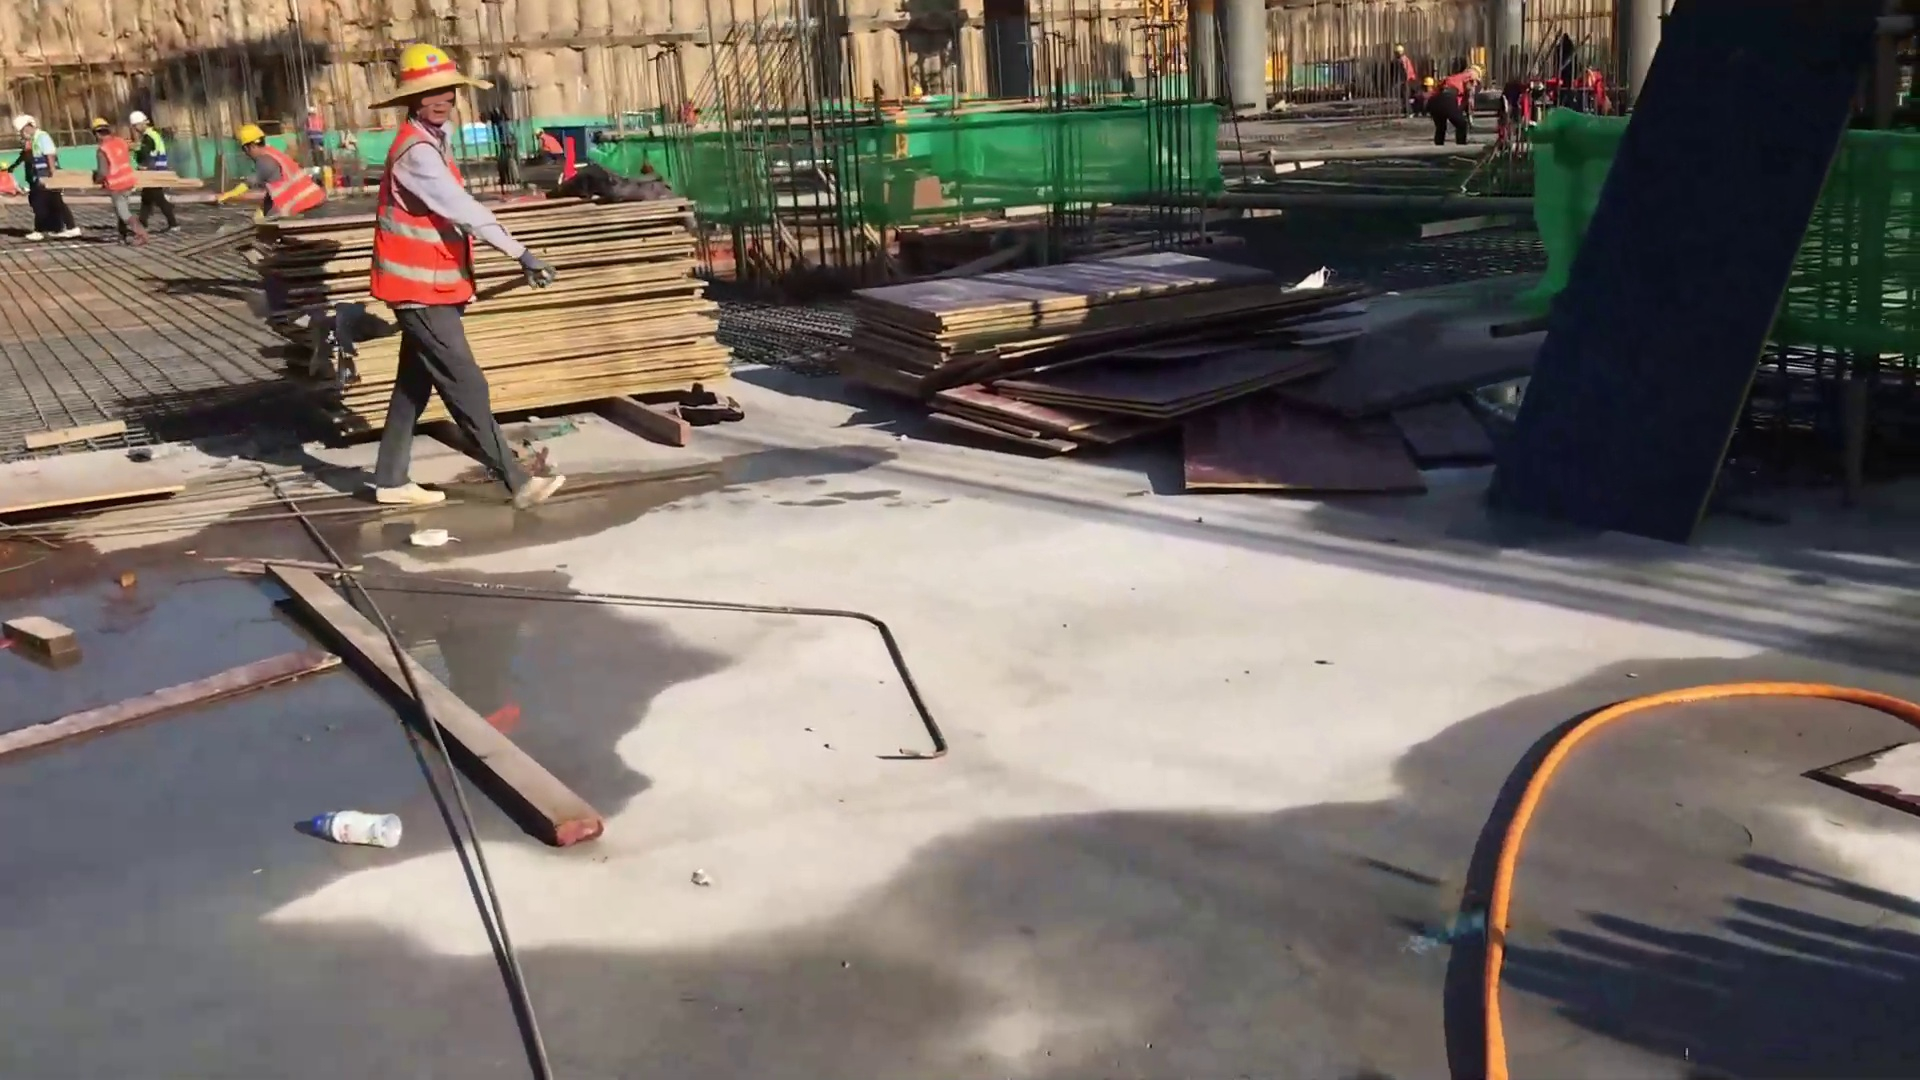helmet: (386, 37, 459, 75), (237, 117, 266, 147), (125, 108, 151, 128), (10, 115, 35, 132), (88, 115, 110, 131), (306, 103, 317, 115), (535, 128, 546, 140)
person: (363, 35, 578, 524), (238, 112, 335, 226), (13, 112, 80, 243), (83, 108, 138, 237), (133, 100, 185, 234), (533, 127, 565, 176)
vest: (369, 110, 493, 308), (244, 148, 333, 221), (84, 136, 140, 196)
